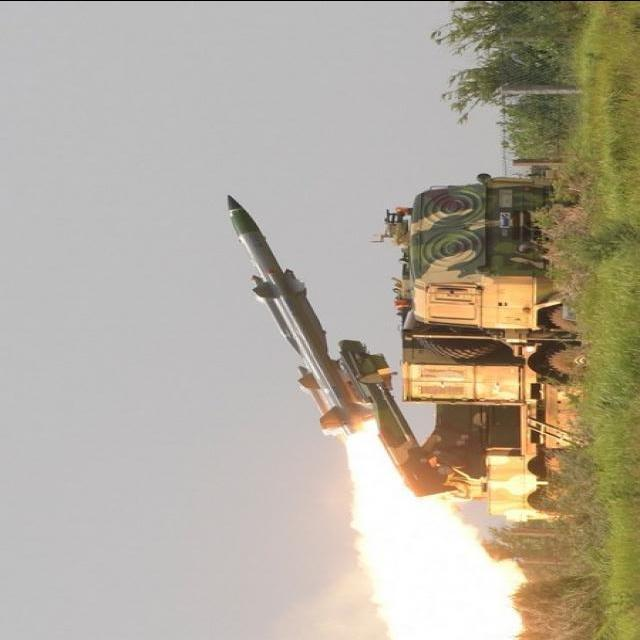missile: (208, 188, 357, 447)
